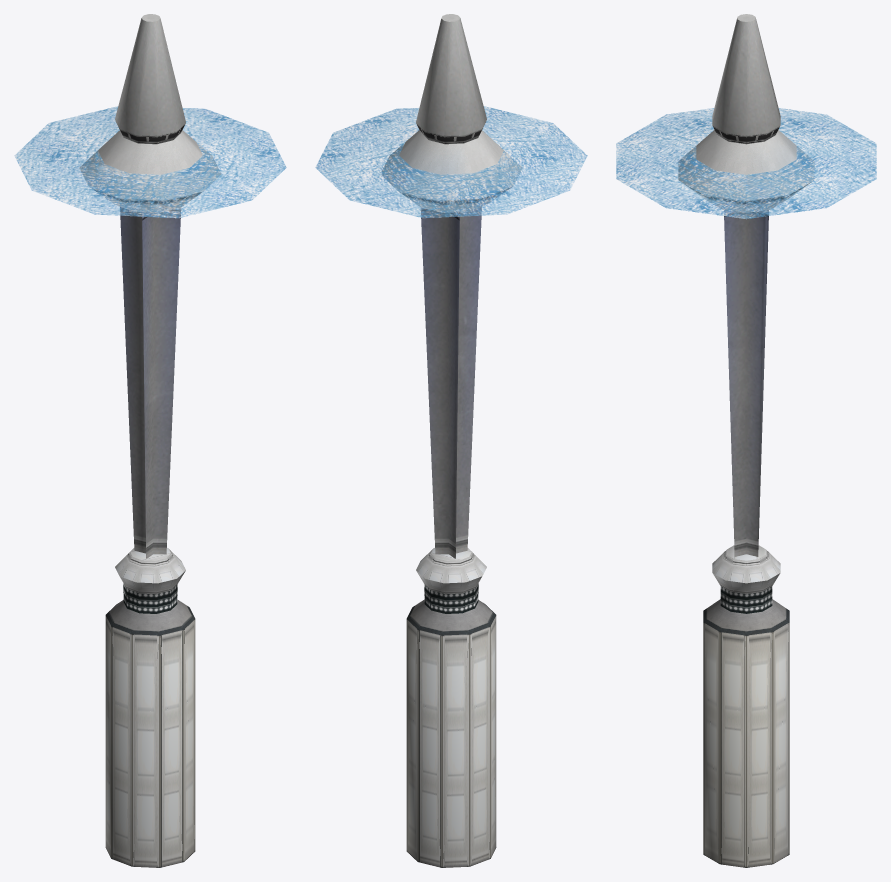
Rendered from bes2_bldg_street_lamp.glb.
3 renders of one model, left to right at view 1: azimuth 30°, elevation 25°; view 2: azimuth 150°, elevation 25°; view 3: azimuth 270°, elevation 25°, orthographic.
Visible parts, largest first — view 1: mesh_part3, mesh_part2, mesh_part1; view 2: mesh_part3, mesh_part2, mesh_part1; view 3: mesh_part3, mesh_part2, mesh_part1.
Boxes of the visible parts, box(x1,y1,x2,y2) form: mesh_part3: box(105, 207, 195, 867); mesh_part2: box(14, 106, 286, 218); mesh_part1: box(79, 14, 221, 212); mesh_part3: box(406, 207, 496, 867); mesh_part2: box(315, 106, 587, 218); mesh_part1: box(382, 14, 522, 212); mesh_part3: box(703, 210, 789, 867); mesh_part2: box(616, 108, 876, 219); mesh_part1: box(678, 14, 814, 212).
Size of the model in its own units: 1.21 by 4.06 by 1.15.
Materials: 3 (3 with a texture image).
